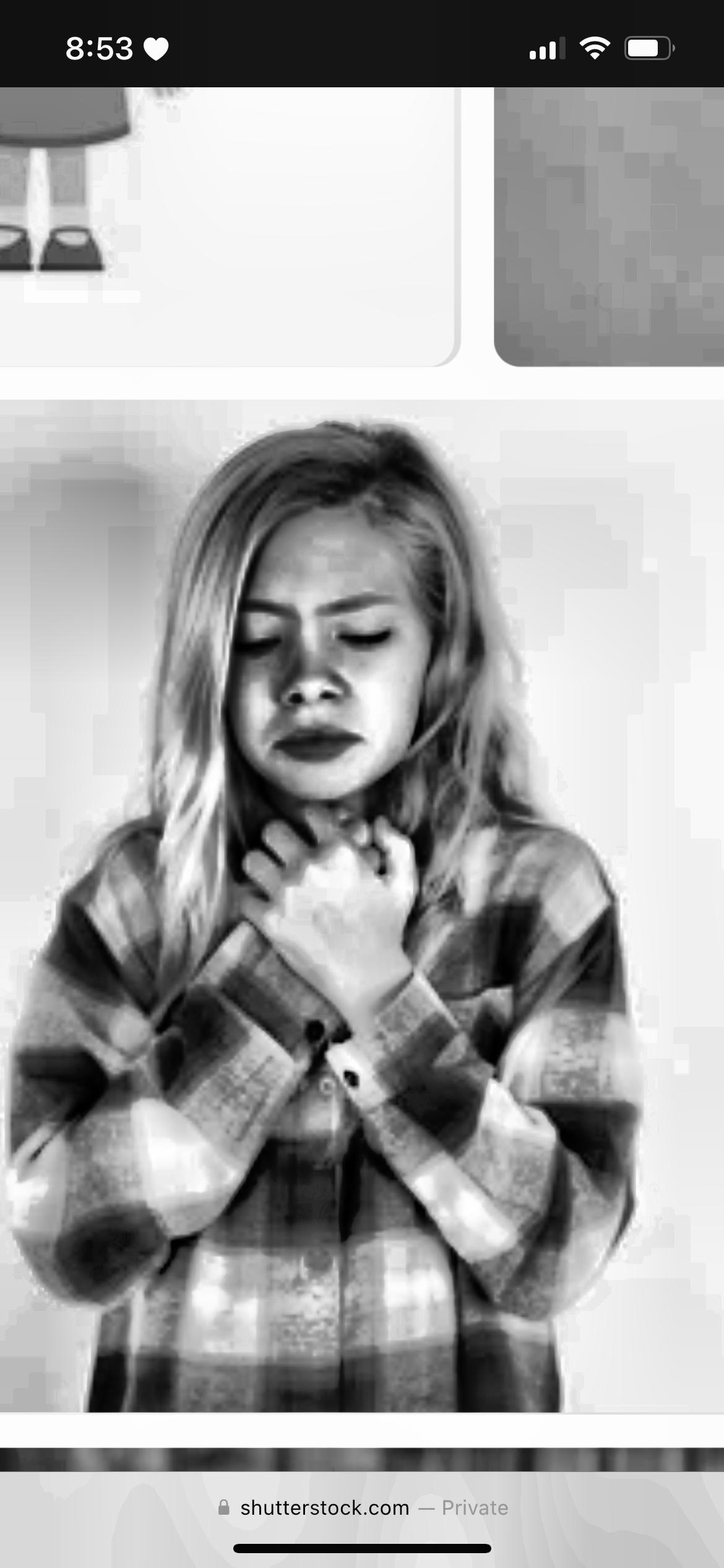sad: (208, 525, 445, 813)
